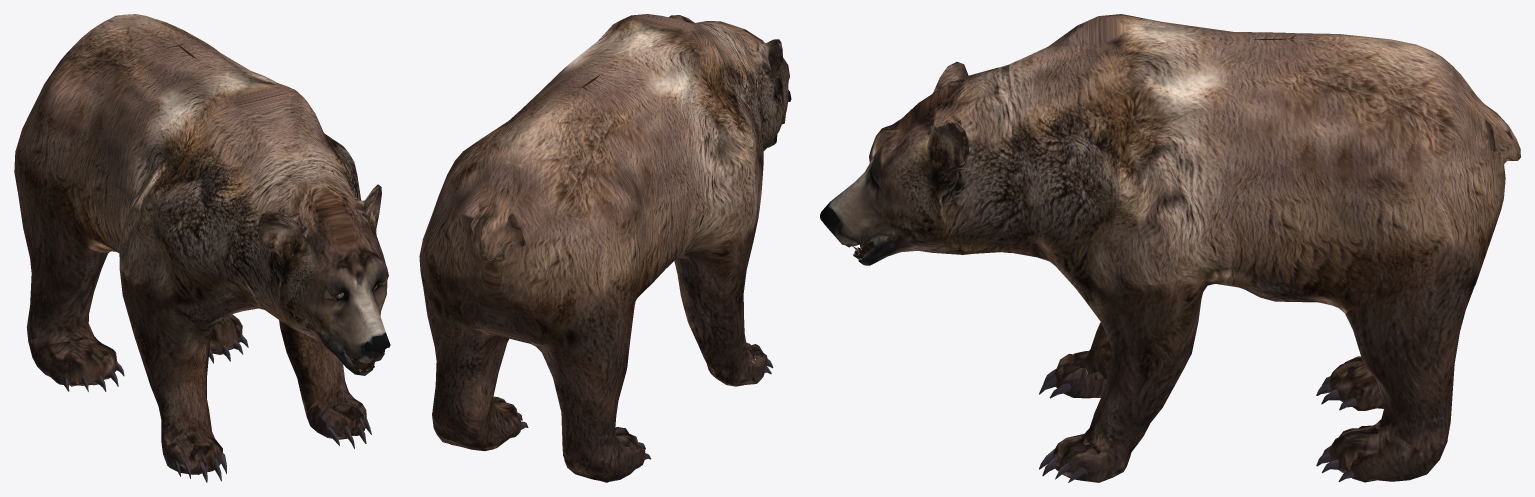
Rendered from Ours.fbx.
3 renders of one model, left to right at view 1: azimuth 30°, elevation 25°; view 2: azimuth 150°, elevation 25°; view 3: azimuth 270°, elevation 25°, orthographic. The views are drawn at different scales.
Visible parts, largest first — view 1: Bear.obj7159FEA3-D0E9-42D9-8C29-0D1CC52BE71E; view 2: Bear.obj7159FEA3-D0E9-42D9-8C29-0D1CC52BE71E; view 3: Bear.obj7159FEA3-D0E9-42D9-8C29-0D1CC52BE71E.
Part boxes in pixels (x1=…): Bear.obj7159FEA3-D0E9-42D9-8C29-0D1CC52BE71E: x1=14, y1=14, x2=390, y2=482; Bear.obj7159FEA3-D0E9-42D9-8C29-0D1CC52BE71E: x1=419, y1=14, x2=791, y2=482; Bear.obj7159FEA3-D0E9-42D9-8C29-0D1CC52BE71E: x1=820, y1=14, x2=1520, y2=482.
Size of the model in its own units: 4925 by 7333 by 11322.
5 materials, 2 textured.
